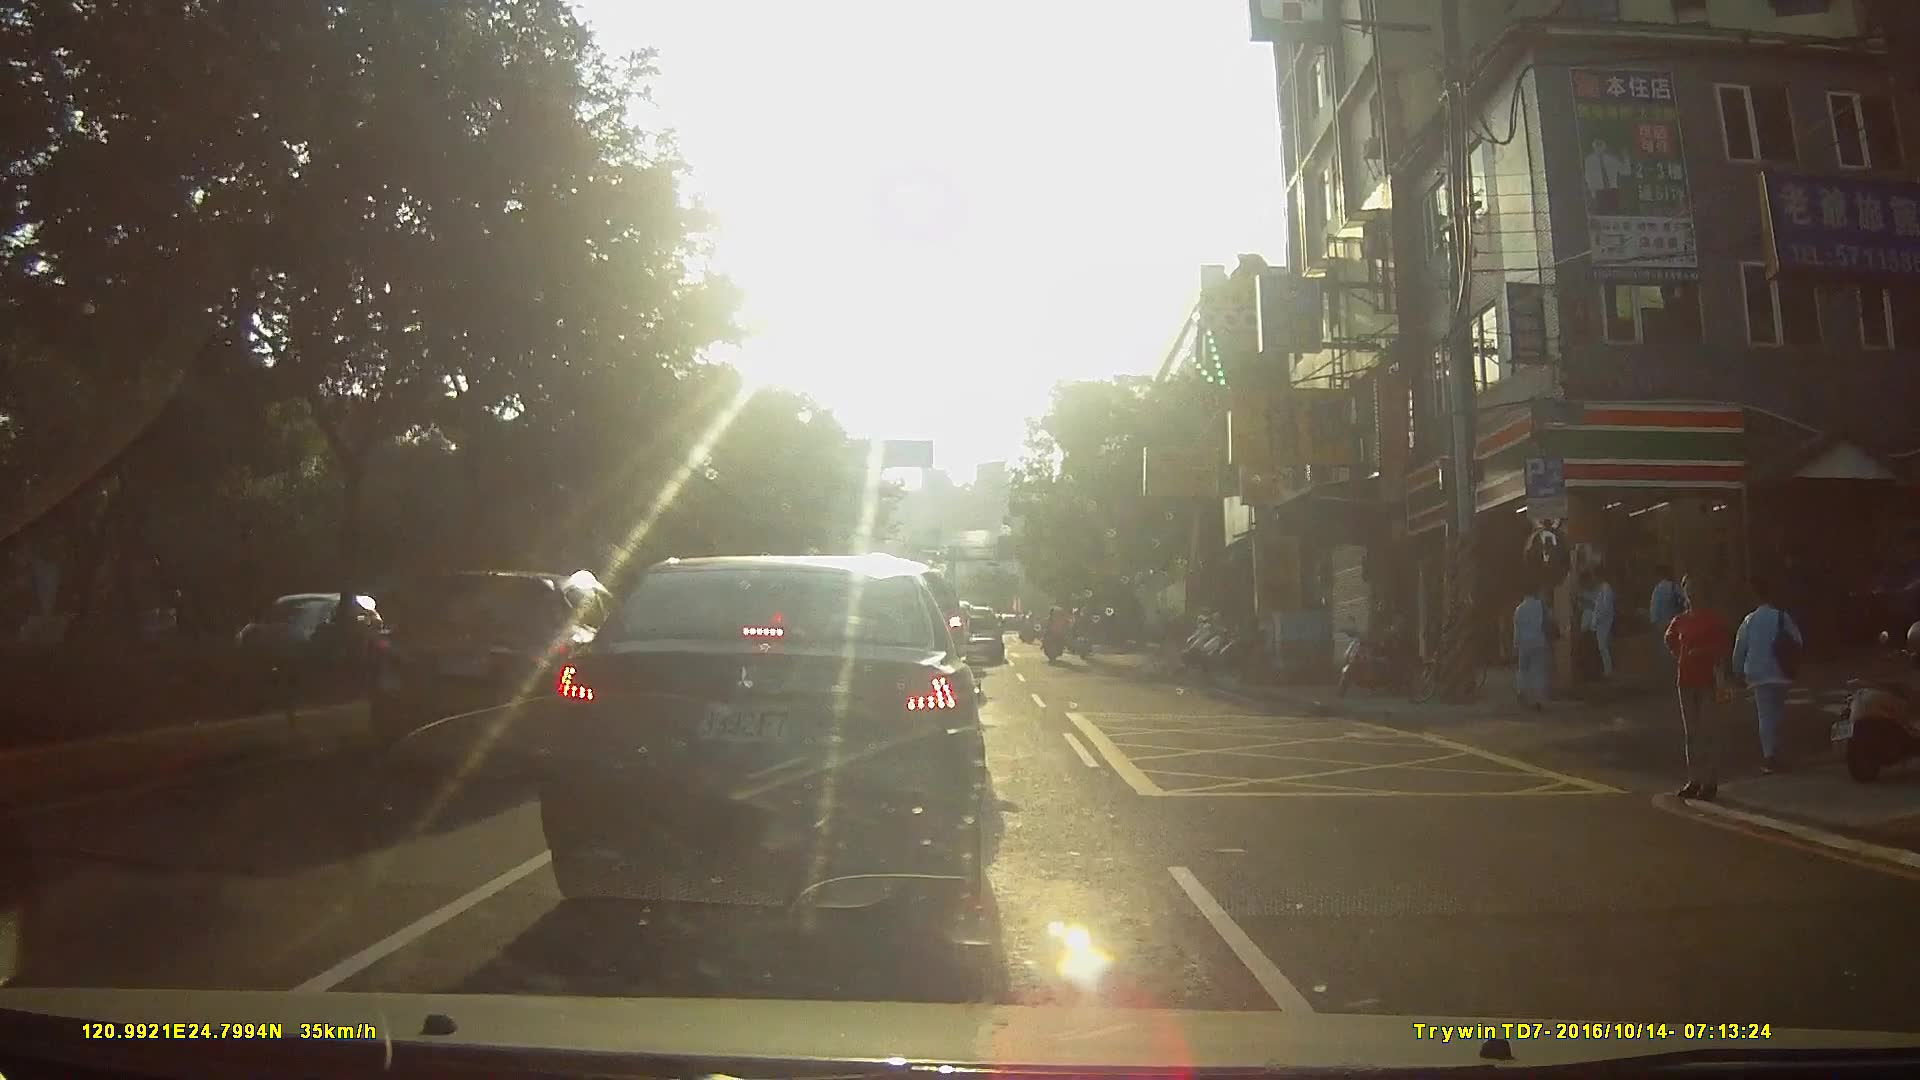pedestrian: (1658, 572, 1729, 800), (1732, 584, 1808, 779), (1505, 579, 1559, 713), (1573, 568, 1617, 684), (1651, 565, 1688, 675), (1572, 568, 1595, 690)
rider: (1040, 606, 1070, 668), (1067, 607, 1093, 660)
vehicle: (532, 553, 1009, 924), (362, 566, 670, 780), (226, 590, 390, 675)
